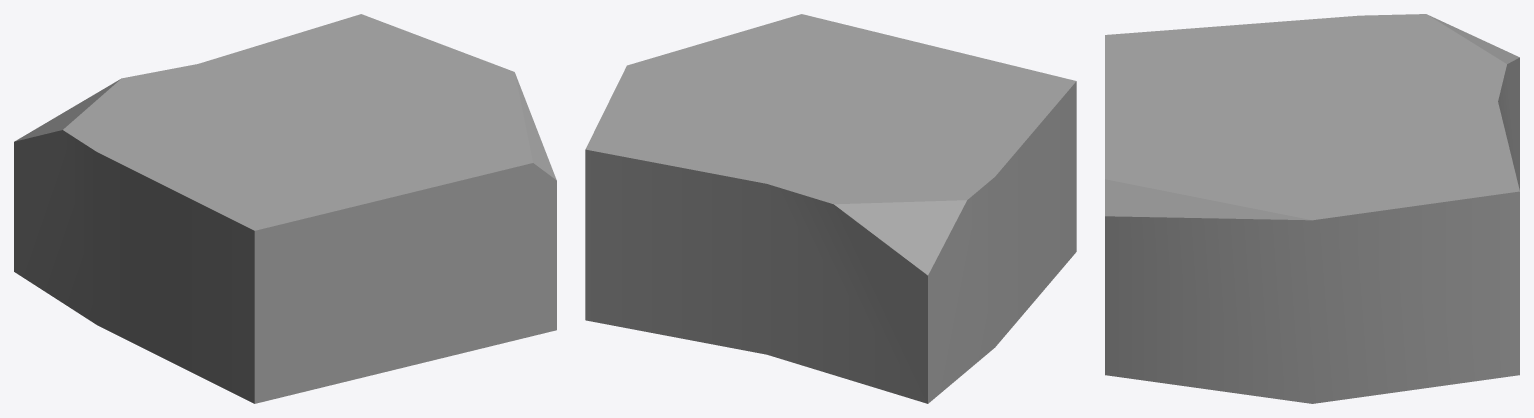
The model's file is Rock 20.FBX.
The picture shows the model from 3 angles, left to right: view 1: azimuth 30°, elevation 25°; view 2: azimuth 150°, elevation 25°; view 3: azimuth 270°, elevation 25°; orthographic projection. The views are drawn at different scales.
Visible parts, largest first — view 1: Box001; view 2: Box001; view 3: Box001.
Boxes of the visible parts, x1,y1,x2,y2 form: Box001: [14, 14, 556, 403]; Box001: [585, 14, 1076, 403]; Box001: [1105, 14, 1519, 403].
Size of the model in its own units: 26.21 by 10.76 by 22.03.
